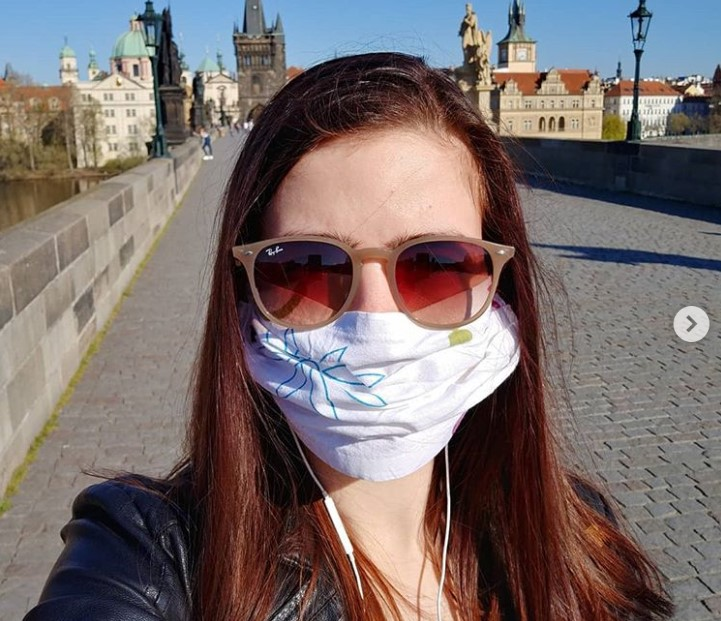face_with_mask: (227, 65, 526, 488)
